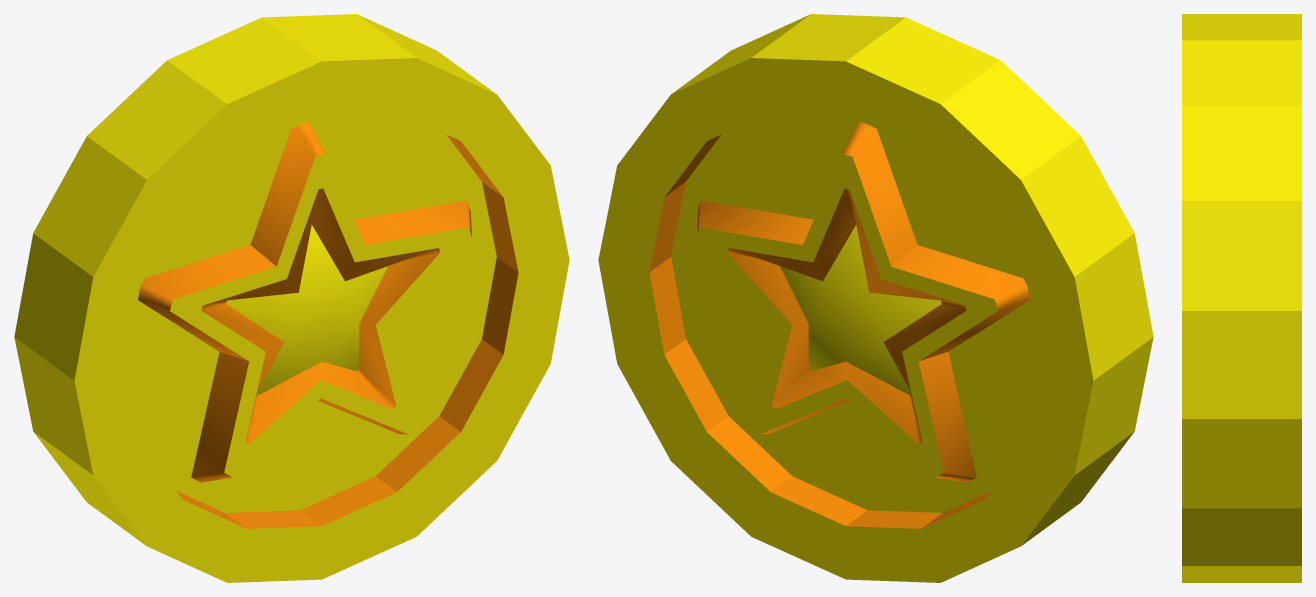
Rendered from coin.fbx.
The picture shows the model from 3 angles, left to right: view 1: azimuth 30°, elevation 25°; view 2: azimuth 150°, elevation 25°; view 3: azimuth 270°, elevation 25°; orthographic projection.
Visible parts, largest first — view 1: coin; view 2: coin; view 3: coin.
Part boxes in pixels (<box>): coin: <box>14,14,569,582</box>; coin: <box>598,14,1153,582</box>; coin: <box>1182,14,1301,582</box>.
Size of the model in its own units: 200 by 200 by 42.05.
